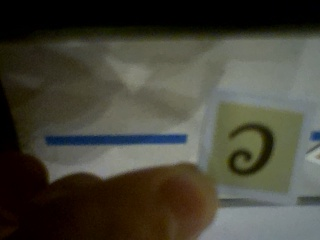C: (206, 100, 304, 195)
